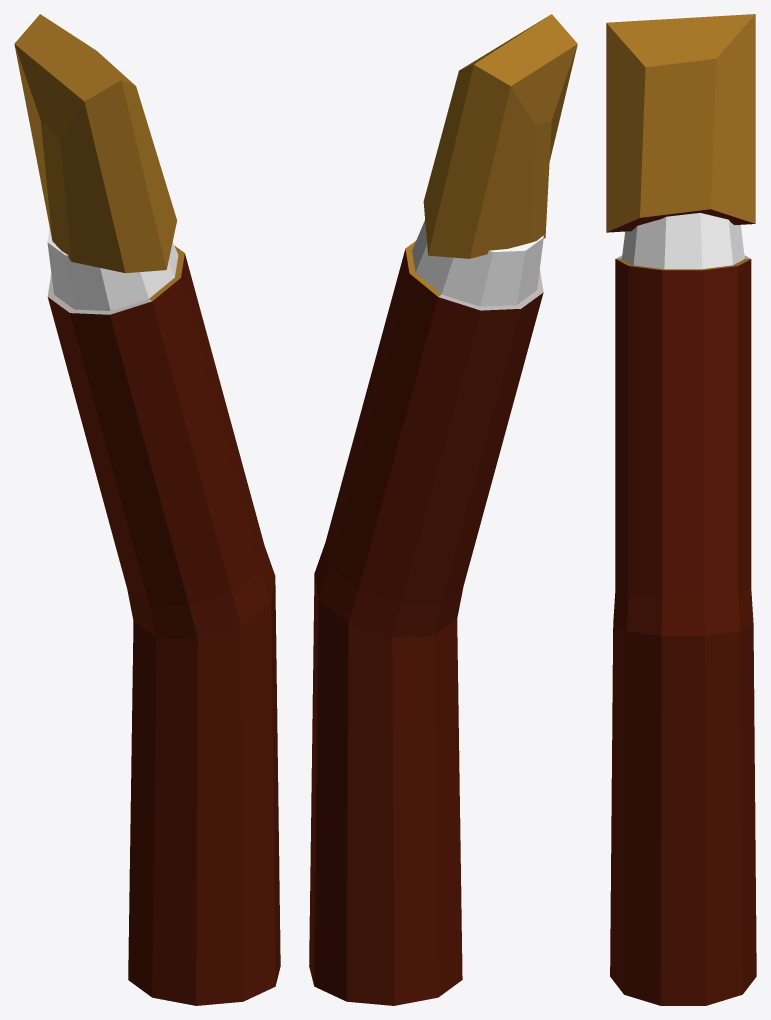
The model's file is Brazo.fbx.
3 renders of one model, left to right at view 1: azimuth 30°, elevation 25°; view 2: azimuth 150°, elevation 25°; view 3: azimuth 270°, elevation 25°, orthographic. The views are drawn at different scales.
Visible parts, largest first — view 1: Cube; view 2: Cube; view 3: Cube.
Part boxes in pixels (x1,y1,x2,y2): Cube: [14, 14, 280, 1005]; Cube: [309, 14, 577, 1005]; Cube: [606, 14, 756, 1005].
Size of the model in its own units: 354 by 1469 by 221.
Materials: 1 (1 with a texture image).
